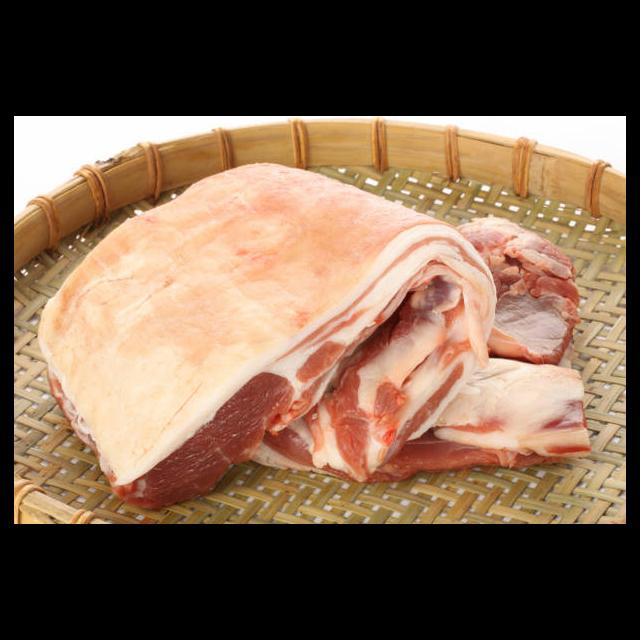pork: (58, 161, 436, 495), (442, 209, 591, 467)
